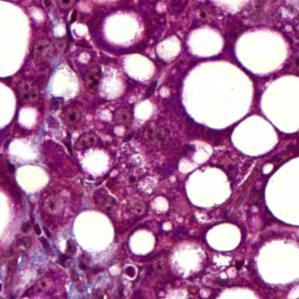steatosis: (172, 60, 253, 131), (69, 207, 118, 254), (200, 218, 241, 256)
